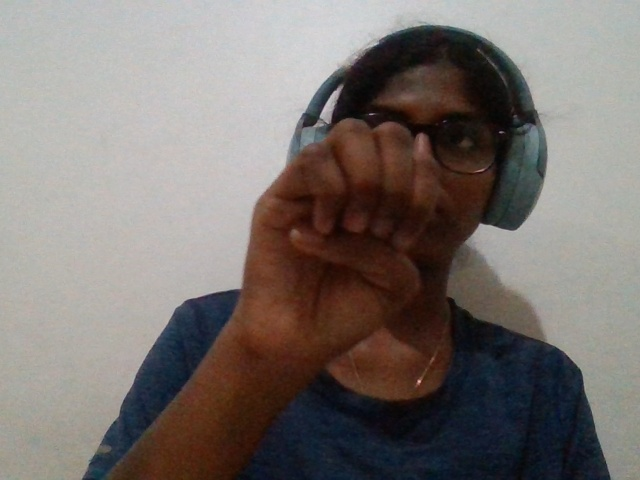E: (172, 91, 465, 432)
